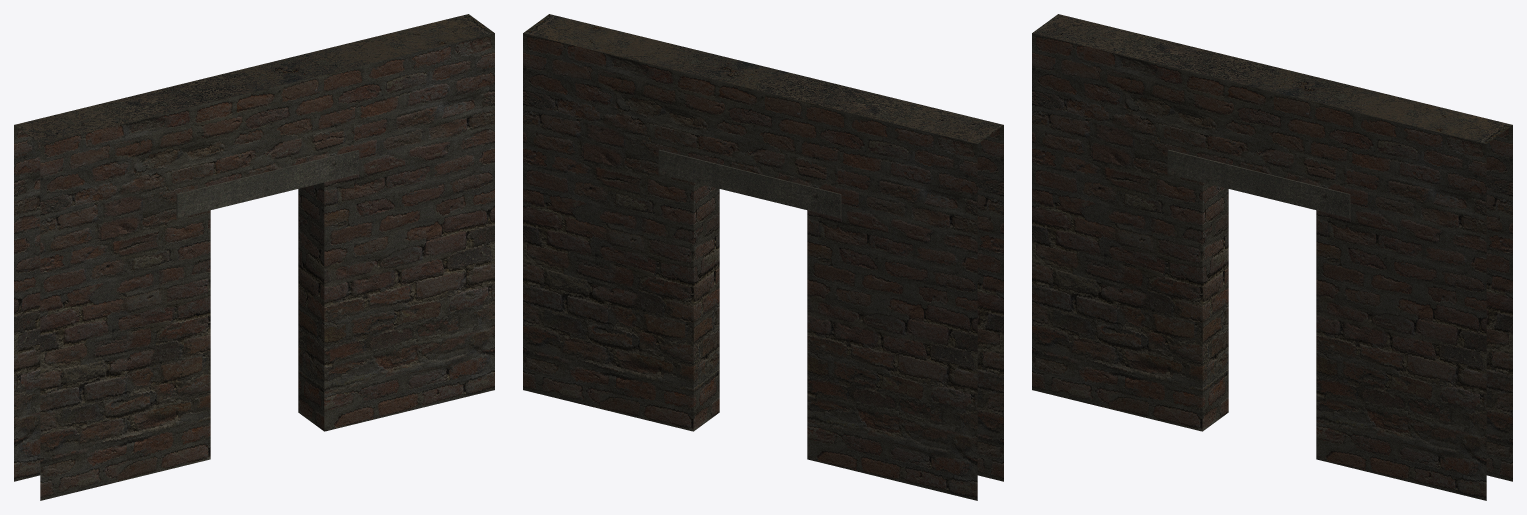
File: doorway_hr_2_regular.glb
3 views of the same model, side by side, from view 1: azimuth 30°, elevation 25°; view 2: azimuth 150°, elevation 25°; view 3: azimuth 330°, elevation 25° (orthographic).
Parts seen in each view (by area): view 1: doorway_hr_2_regular; view 2: doorway_hr_2_regular; view 3: doorway_hr_2_regular.
Boxes of the visible parts, x1,y1,x2,y2 form: doorway_hr_2_regular: [14, 14, 494, 500]; doorway_hr_2_regular: [523, 14, 1003, 500]; doorway_hr_2_regular: [1032, 14, 1512, 500].
Bounding box in the file's own units: 4 × 3 × 0.42.
3 materials, 3 textured.
